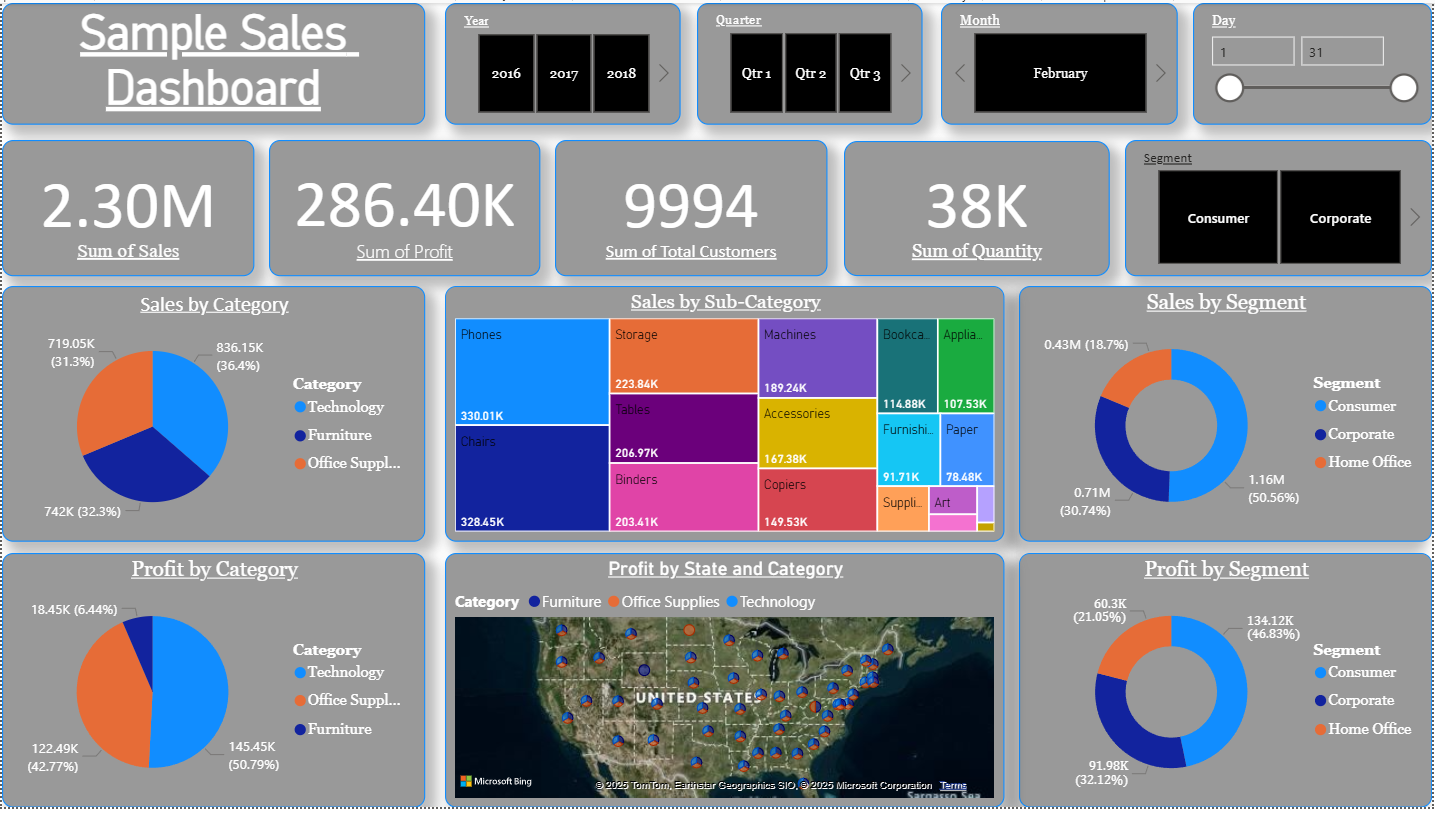

Layout of this report page (visuals, bound fields, positions):
{"tool":"powerbi","page":{"name":"Page 1","canvas":[1280,720],"ordinal":0},"visuals":[{"type":"textbox","box":[0,0,378.6,109.1],"z":0},{"type":"slicer","fields":{"Values":["ORDERS.Order Date.Variation.Date Hierarchy.Year"]},"box":[396.4,0,211,109.1],"z":1000},{"type":"slicer","fields":{"Values":["ORDERS.Order Date.Variation.Date Hierarchy.Quarter"]},"box":[622.5,0,202.2,109.1],"z":2000},{"type":"slicer","fields":{"Values":["ORDERS.Order Date.Variation.Date Hierarchy.Month"]},"box":[840.6,0,211.9,109.1],"z":3000},{"type":"slicer","fields":{"Values":["ORDERS.Order Date.Variation.Date Hierarchy.Day"]},"box":[1066.7,0,213.7,109.1],"z":4000},{"type":"card","fields":{"Values":["Sum(ORDERS.Sales)"]},"box":[0,122.4,226.1,122.4],"z":5000},{"type":"card","fields":{"Values":["Sum(ORDERS.Profit)"]},"box":[239.4,122.4,243,122.4],"z":6000},{"type":"card","fields":{"Values":["Sum(ORDERS.Total Customers)"]},"box":[495.7,122.4,243.8,122.4],"z":7000},{"type":"card","fields":{"Values":["Sum(ORDERS.Quantity)"]},"box":[753.7,123.3,237.6,121.5],"z":8000},{"type":"slicer","fields":{"Values":["ORDERS.Segment"]},"box":[1005.5,122.4,274.9,122.4],"z":9000},{"type":"pieChart","title":"Sales by Category","fields":{"Y":["Sum(ORDERS.Sales)"],"Category":["ORDERS.Category"]},"box":[0,253.6,378.6,228.8],"z":10000},{"type":"pieChart","title":"Profit by Category","fields":{"Y":["Sum(ORDERS.Profit)"],"Category":["ORDERS.Category"]},"box":[0,492.1,378.6,227.9],"z":11000},{"type":"donutChart","title":"Sales by Segment","fields":{"Y":["Sum(ORDERS.Sales)"],"Category":["ORDERS.Segment"]},"box":[910.6,253.6,369.8,228.8],"z":12000},{"type":"donutChart","title":"Profit by Segment","fields":{"Category":["ORDERS.Segment"],"Y":["Sum(ORDERS.Profit)"]},"box":[910.6,492.1,369.8,227.9],"z":13000},{"type":"treemap","title":"Sales by Sub-Category","fields":{"Values":["Sum(ORDERS.Sales)"],"Group":["ORDERS.Sub-Category"]},"box":[396.4,253.6,501,228.8],"z":14000},{"type":"map","title":"Profit by State and Category","fields":{"Category":["ORDERS.State"],"Series":["ORDERS.Category"]},"box":[396.4,492.1,501,227.9],"z":15000}]}

Visuals, with their boxes in screenshot pixels (x1, y1, x2, y2), scaled from the page's 1280x720 canvas onto the 1435x813 screenshot:
textbox: <box>0,0,424,123</box>
slicer - ORDERS.Order Date.Variation.Date Hierarchy.Year: <box>444,0,681,123</box>
slicer - ORDERS.Order Date.Variation.Date Hierarchy.Quarter: <box>698,0,925,123</box>
slicer - ORDERS.Order Date.Variation.Date Hierarchy.Month: <box>942,0,1180,123</box>
slicer - ORDERS.Order Date.Variation.Date Hierarchy.Day: <box>1196,0,1434,123</box>
card - Sum(ORDERS.Sales): <box>0,138,253,276</box>
card - Sum(ORDERS.Profit): <box>268,138,541,276</box>
card - Sum(ORDERS.Total Customers): <box>556,138,829,276</box>
card - Sum(ORDERS.Quantity): <box>845,139,1111,276</box>
slicer - ORDERS.Segment: <box>1127,138,1434,276</box>
"Sales by Category" pieChart: <box>0,286,424,545</box>
"Profit by Category" pieChart: <box>0,556,424,812</box>
"Sales by Segment" donutChart: <box>1021,286,1434,545</box>
"Profit by Segment" donutChart: <box>1021,556,1434,812</box>
"Sales by Sub-Category" treemap: <box>444,286,1006,545</box>
"Profit by State and Category" map: <box>444,556,1006,812</box>
